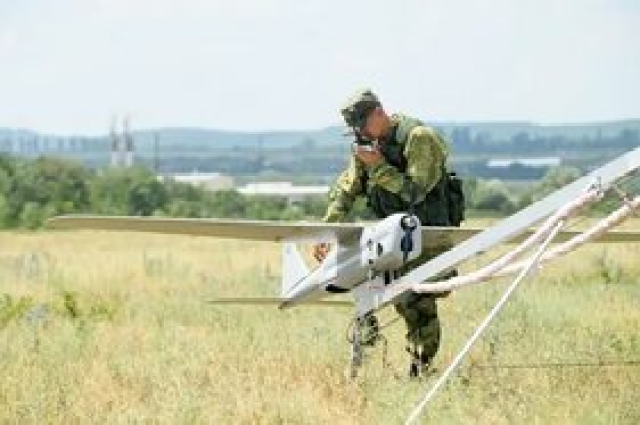military drone: (44, 210, 640, 310)
